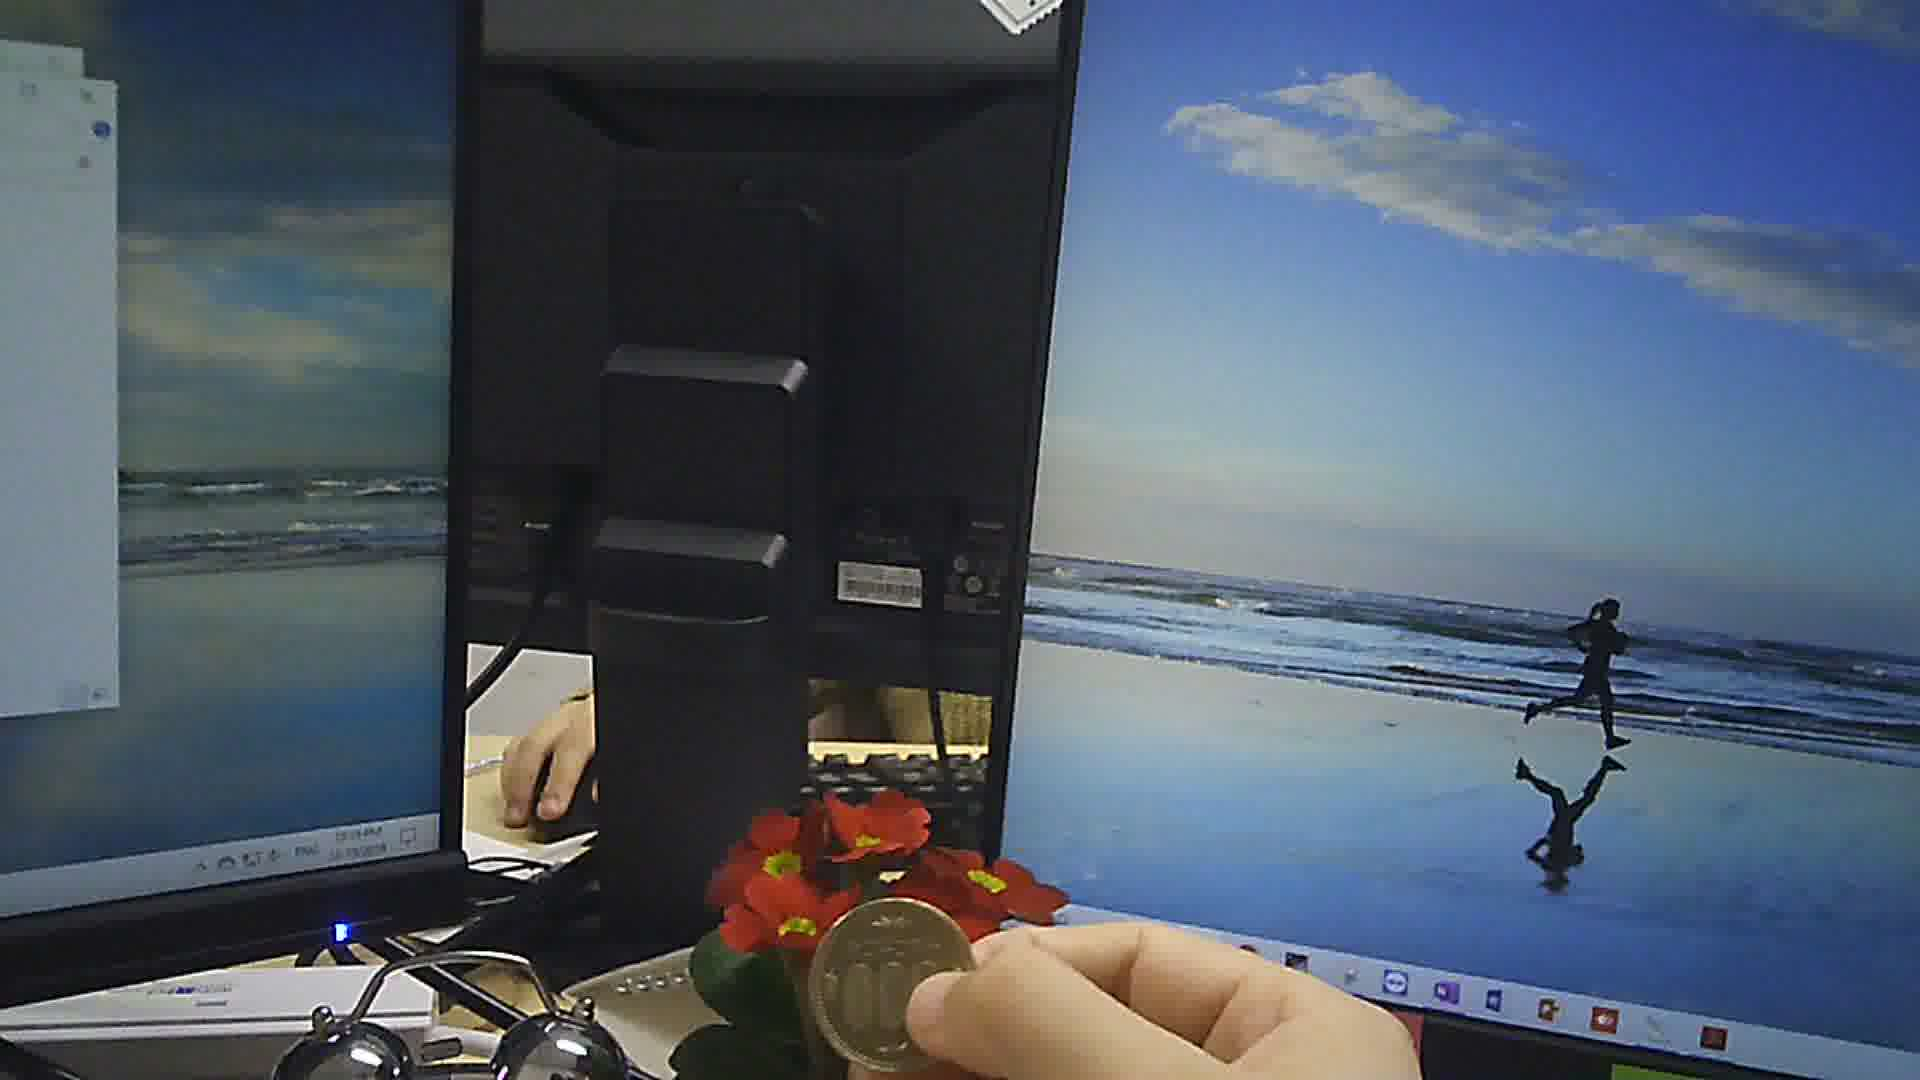500 Yen: (804, 897, 984, 1079)
